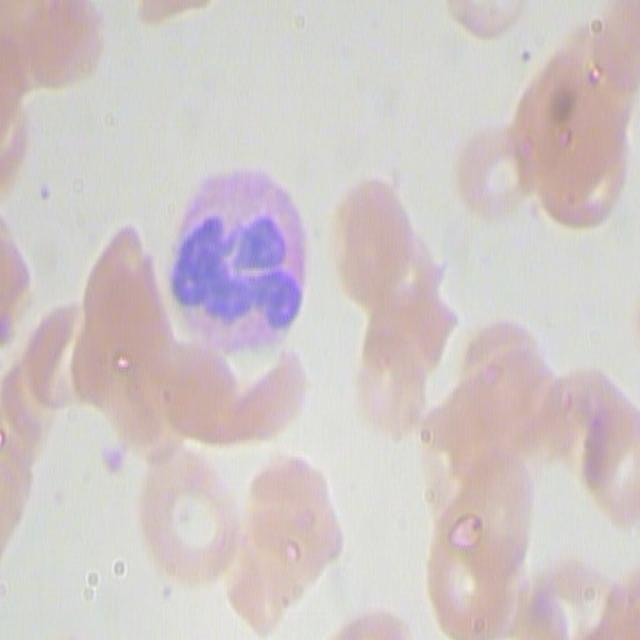RBC: (519, 52, 629, 232), (155, 328, 308, 447), (429, 458, 531, 635), (232, 462, 340, 626), (83, 225, 163, 440), (142, 446, 240, 584), (554, 363, 638, 522), (460, 322, 555, 453), (371, 250, 458, 368), (333, 182, 411, 299), (0, 0, 104, 86), (458, 125, 548, 224), (1, 356, 38, 567), (521, 574, 635, 640), (569, 5, 640, 95), (360, 346, 428, 434), (424, 380, 481, 478), (26, 309, 74, 409), (2, 67, 26, 204), (442, 1, 532, 34), (342, 610, 409, 640)
WBC: (173, 172, 309, 356)
